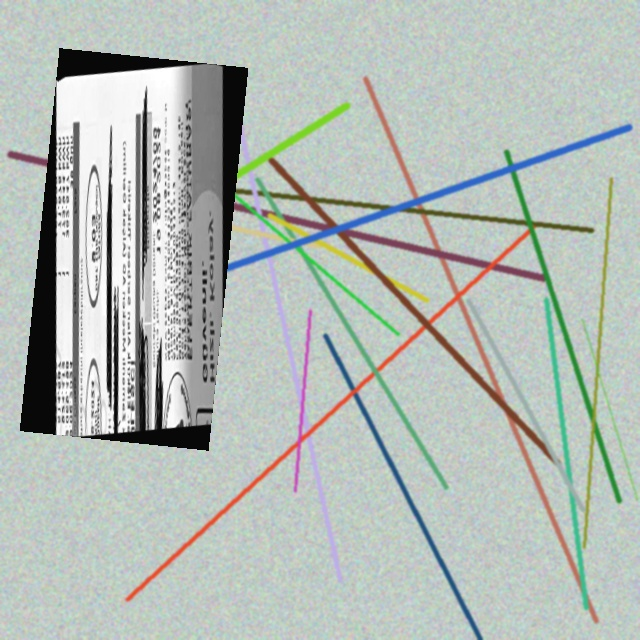electricity-bill: (20, 47, 248, 450)
